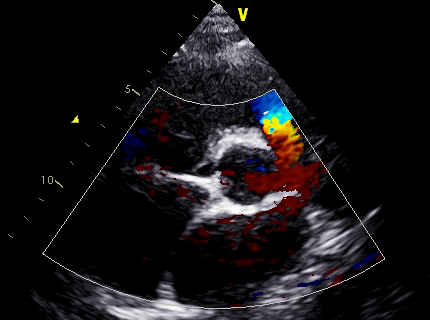PR: (263, 116, 326, 170)
